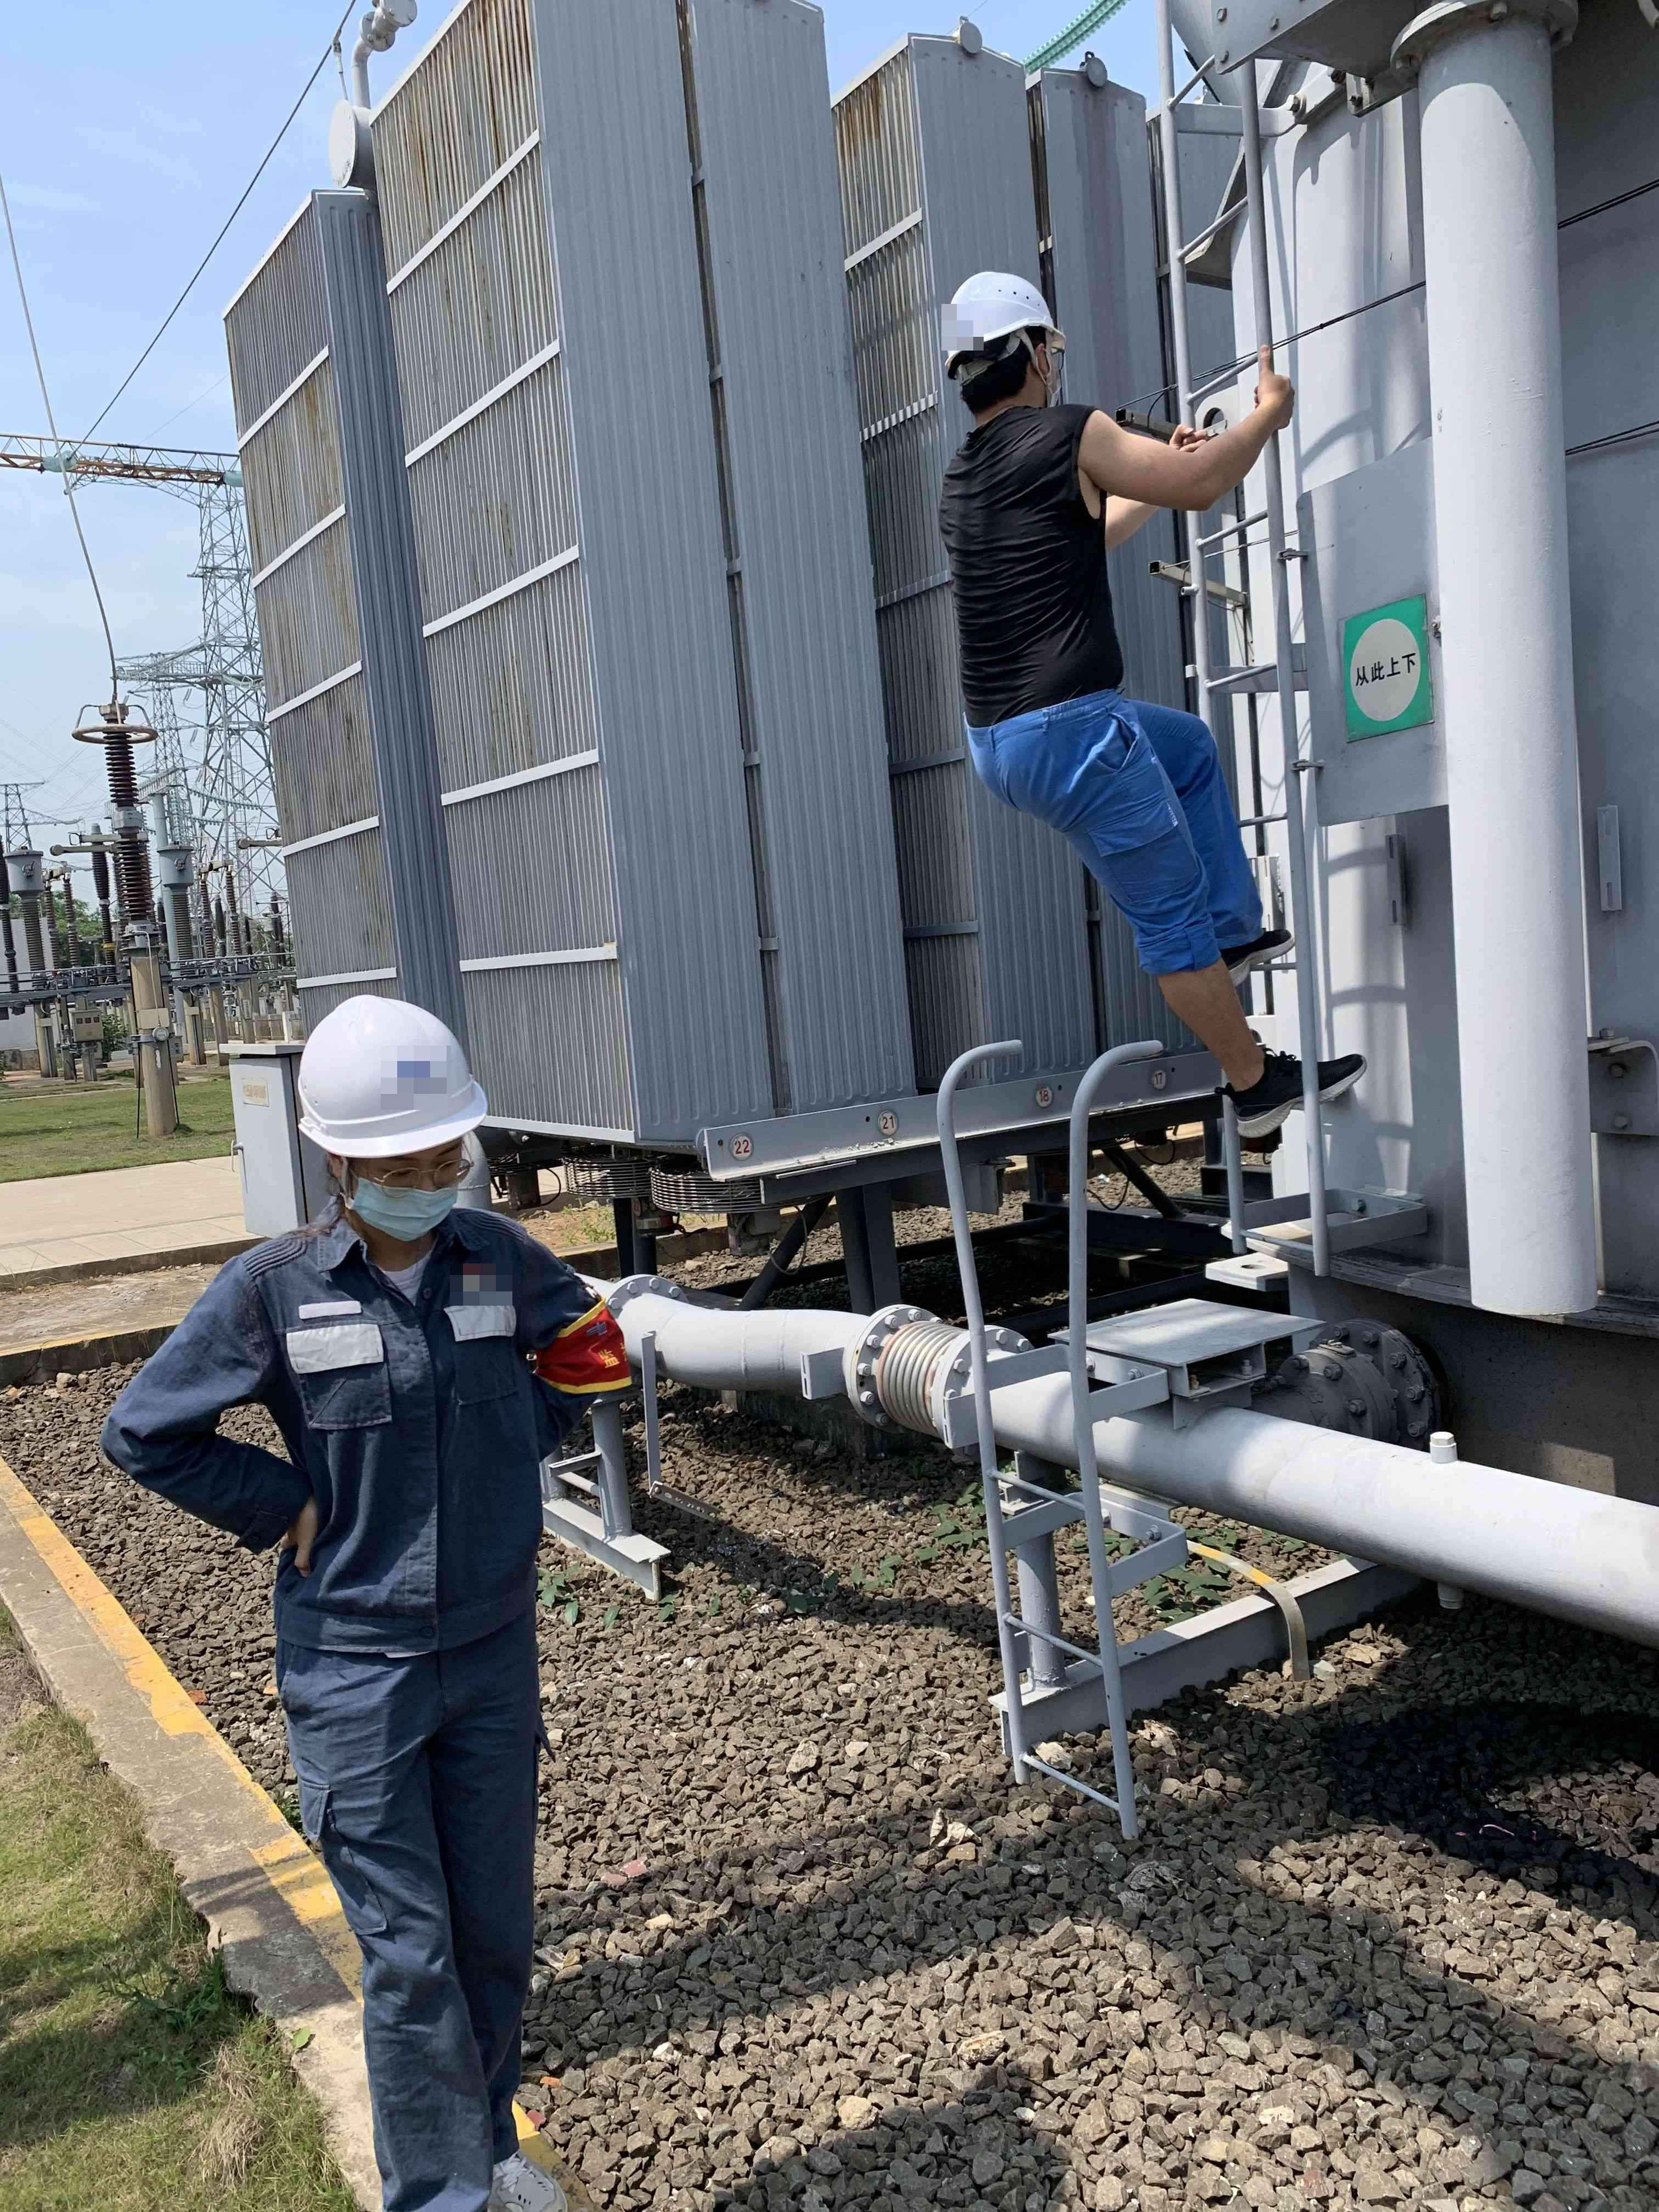downsuit: (260, 1608, 559, 2209), (955, 695, 1263, 975)
upcloth: (934, 415, 1127, 728)
upsuit: (105, 1204, 638, 1665)
wrongbottom: (1136, 914, 1272, 1096)
